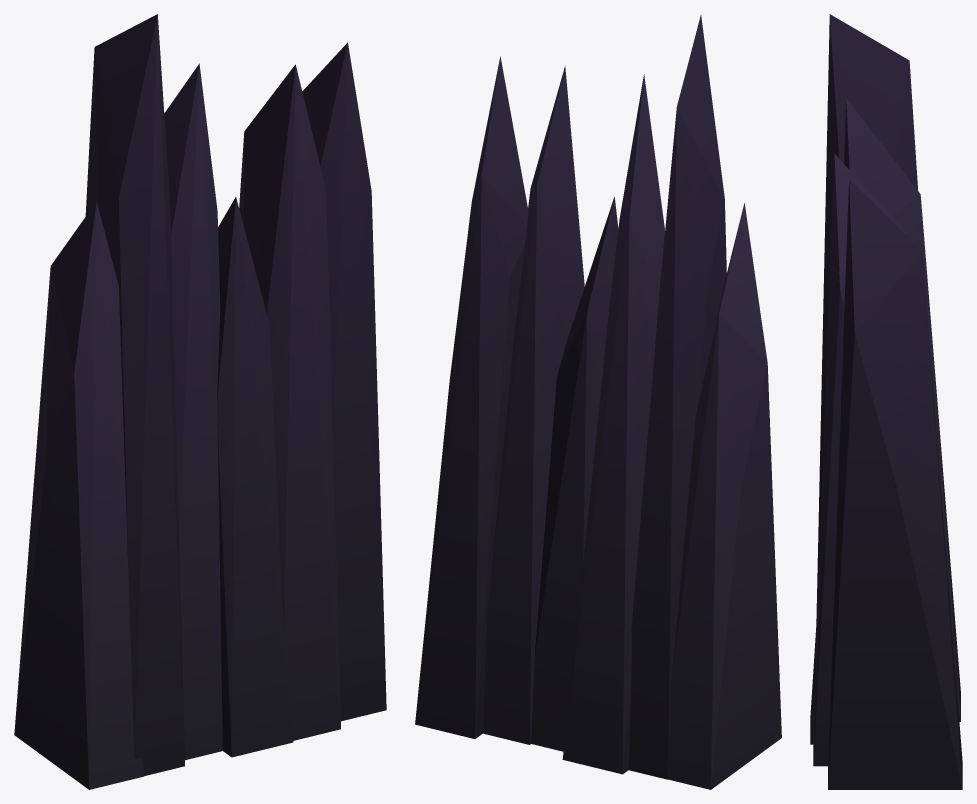
The model's file is penhasco_a.fbx.
3 views of the same model, side by side, from view 1: azimuth 30°, elevation 25°; view 2: azimuth 150°, elevation 25°; view 3: azimuth 270°, elevation 25° (orthographic). The views are drawn at different scales.
Parts seen in each view (by area): view 1: penhasco_a; view 2: penhasco_a; view 3: penhasco_a.
Part boxes in pixels (x1=…): penhasco_a: x1=14, y1=14, x2=386, y2=789; penhasco_a: x1=415, y1=15, x2=781, y2=789; penhasco_a: x1=810, y1=14, x2=962, y2=789.
Bounding box in the file's own units: 37.59 × 88.52 × 18.08.
